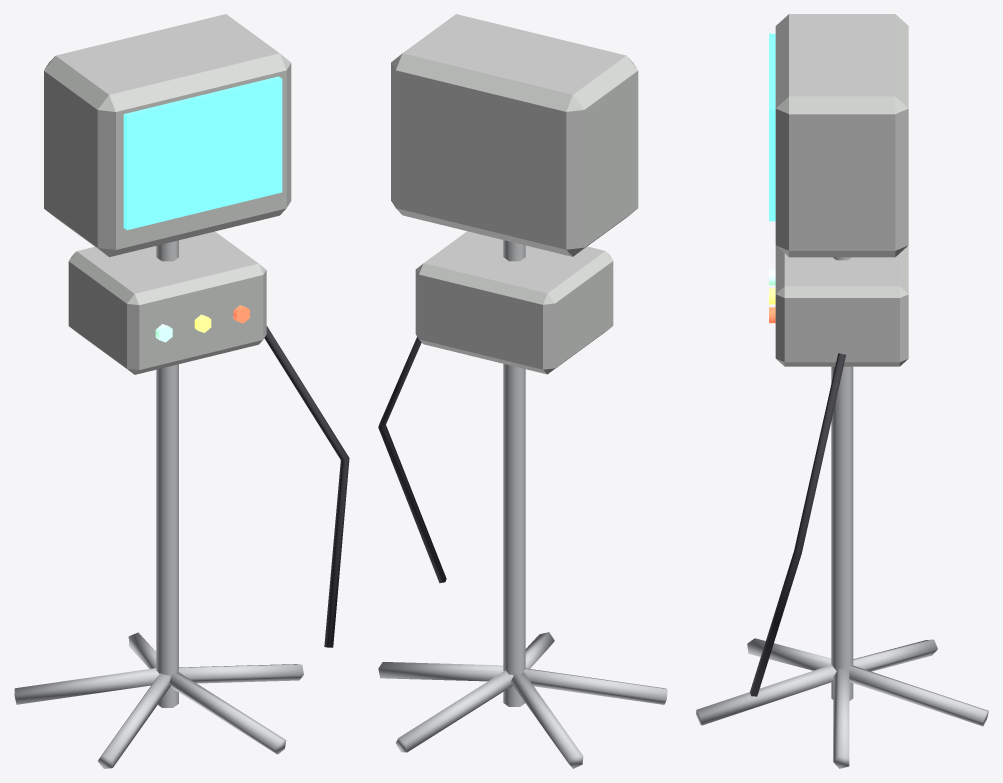
Rendered from hs_monitor.glb.
3 renders of one model, left to right at view 1: azimuth 30°, elevation 25°; view 2: azimuth 150°, elevation 25°; view 3: azimuth 270°, elevation 25°, orthographic.
Parts seen in each view (by area): view 1: hs_monitor; view 2: hs_monitor; view 3: hs_monitor.
Part boxes in pixels (x1,y1,x2,y2): hs_monitor: (14,14,349,768); hs_monitor: (378,14,667,768); hs_monitor: (696,14,988,768).
Size of the model in its own units: 0.6956 by 1.62 by 0.6602.
